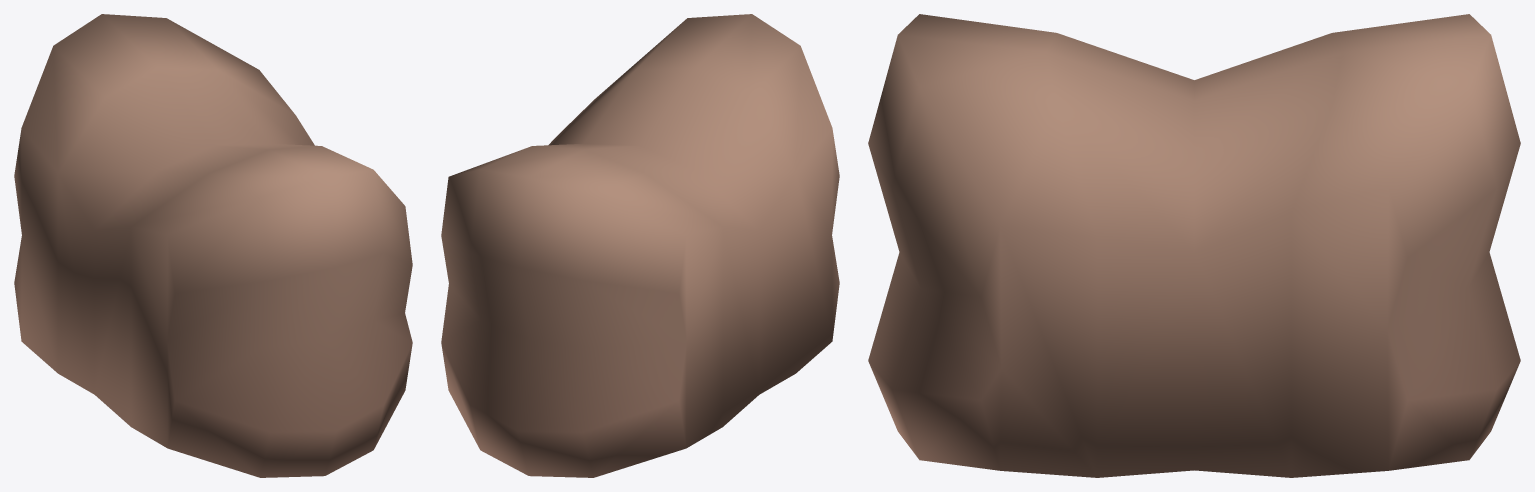
File: pillow-fluffy-wide-dented.glb
3 renders of one model, left to right at view 1: azimuth 30°, elevation 25°; view 2: azimuth 150°, elevation 25°; view 3: azimuth 270°, elevation 25°, orthographic. The views are drawn at different scales.
Parts seen in each view (by area): view 1: pillow-fluffy-wide-dented; view 2: pillow-fluffy-wide-dented; view 3: pillow-fluffy-wide-dented.
Boxes of the visible parts, bbox=[...] form: pillow-fluffy-wide-dented: bbox=[14, 14, 412, 477]; pillow-fluffy-wide-dented: bbox=[441, 14, 839, 477]; pillow-fluffy-wide-dented: bbox=[868, 14, 1520, 477].
Size of the model in its own units: 0.2539 by 0.313 by 0.4545.
